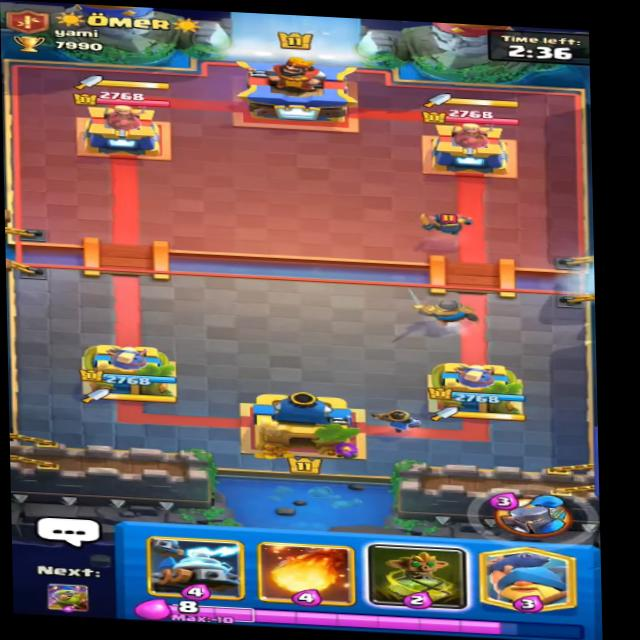mini-pekka: (414, 204, 479, 235)
